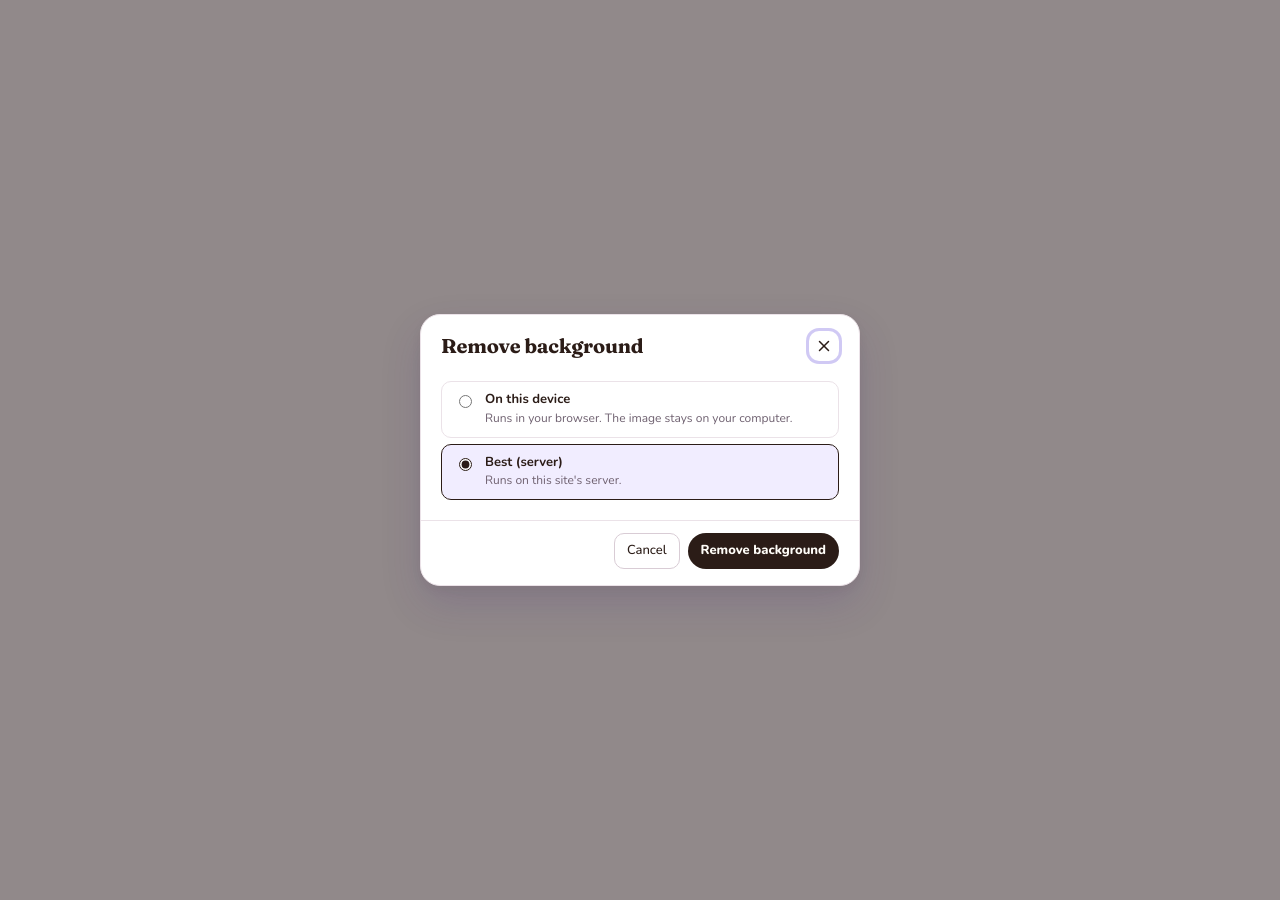
Test: BackgroundRemovalDialog: options › says what went wrong on the server and offers to retry on this device
Click the button "Remove background".
click(763, 551)  # box [688,533,839,569]
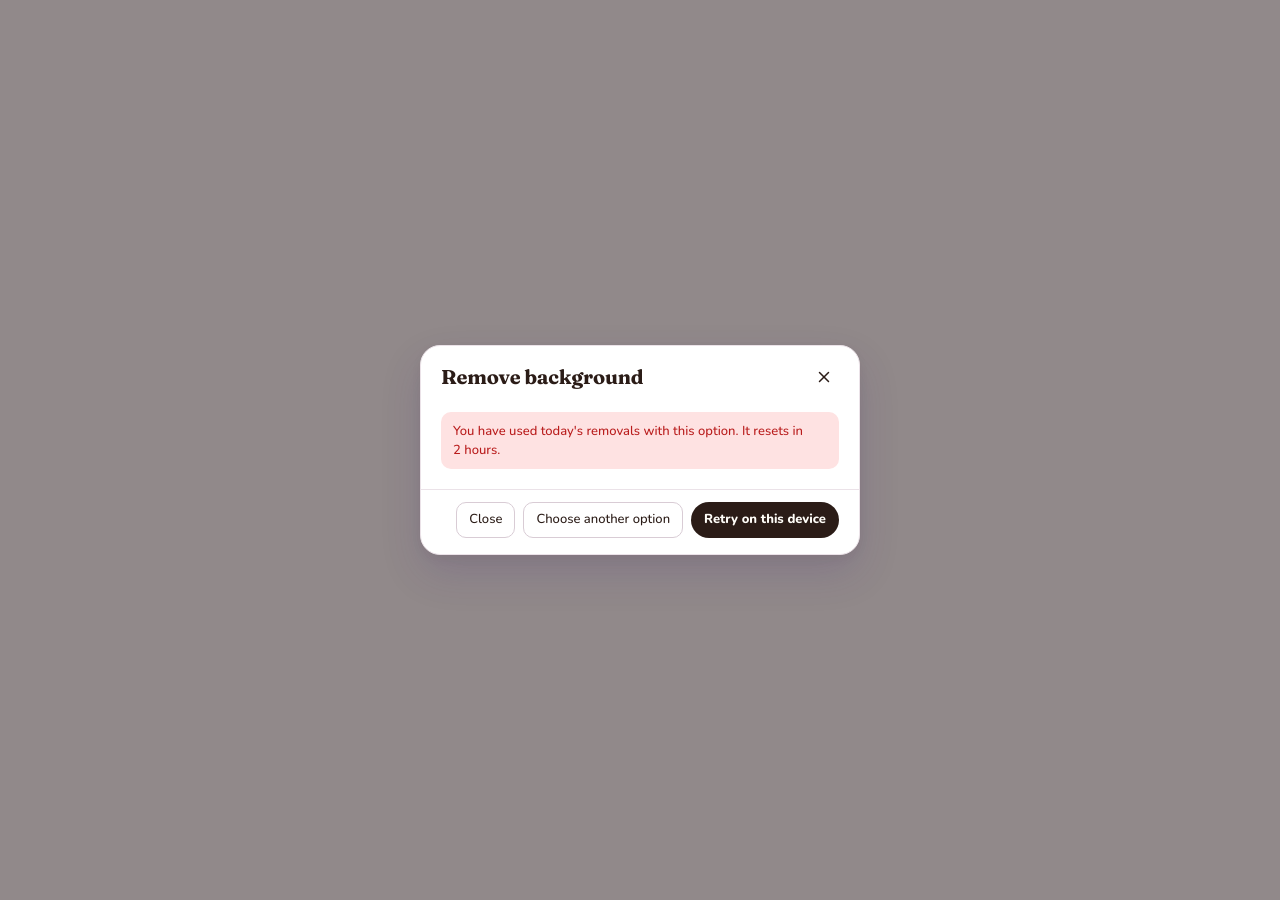
Click the button "Retry on this device".
click(765, 520)  # box [691,502,839,538]
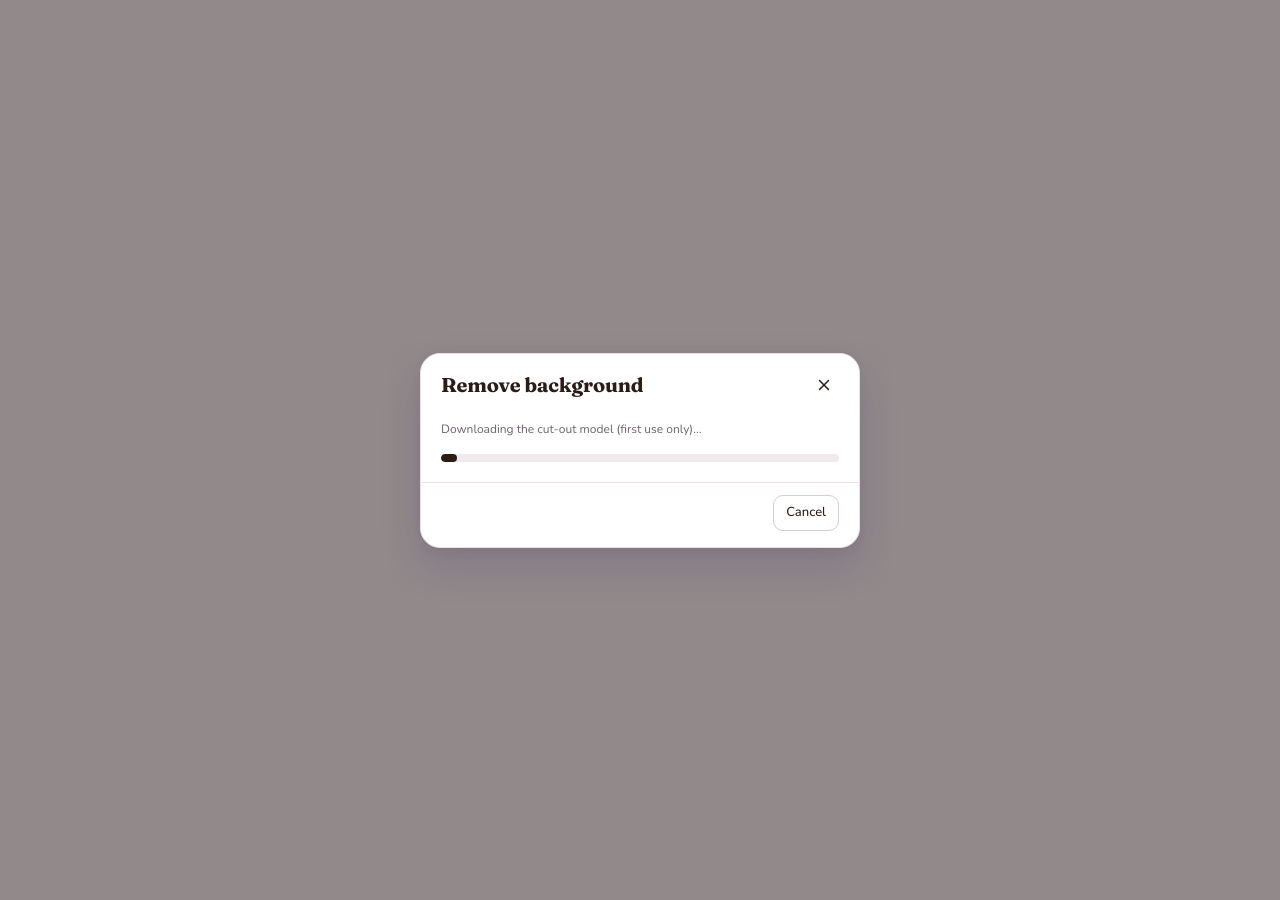
Expected: the message reads "Downloading the cut-out model (first use only)…", [441,420,701,436]
